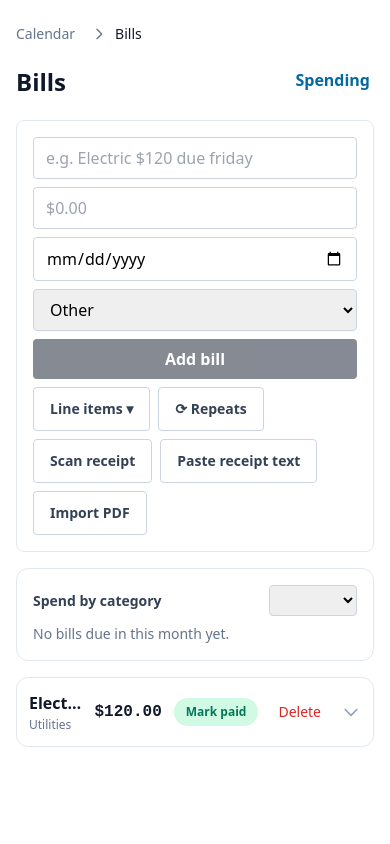
Scenario: mark paid toggle › reverts the badge and shows the error box when the PUT fails
Click the button with aria-label "Mark paid Electric". click: (216, 712)
box: [174,698,258,726]
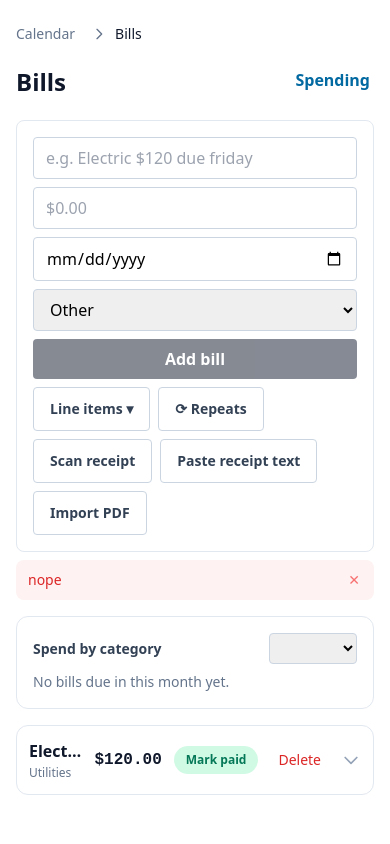
Expected: the message shows "nope", [28,570,62,589]
